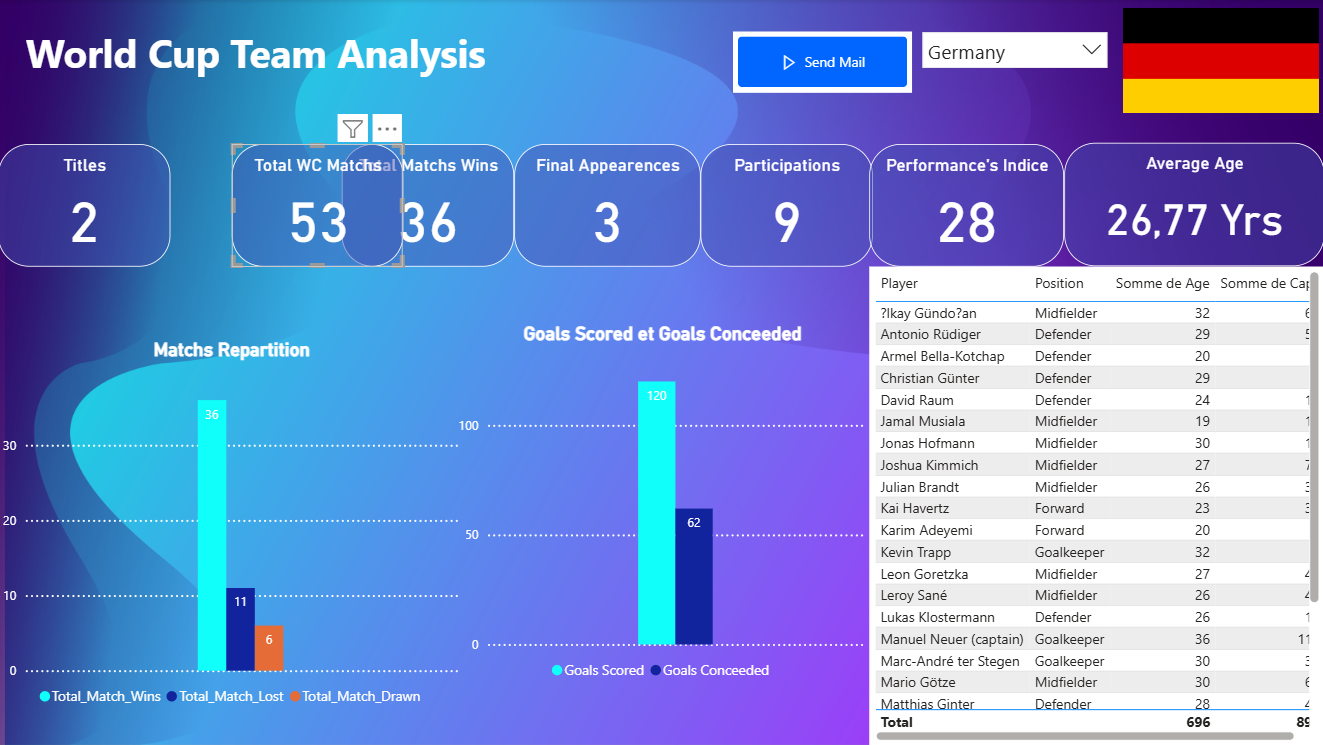

The dashboard page shown, as its layout file describes it:
{"tool":"powerbi","page":{"name":"WC_Team_Analysis","canvas":[1280,720],"ordinal":2},"visuals":[{"type":"slicer","fields":{"Values":["dim_fifa_ranking.team"]},"box":[882.3,22,199,52.1],"z":0},{"type":"card","title":"Total WC Matchs","fields":{"Values":["fact_WC_matches.Total Matches by Team"]},"box":[225.6,139.9,165.3,118.2],"z":1000},{"type":"simpleImageEBC4593F96F1425FB3D84C5BF02B5075","fields":{"imageURL":["dim_fifa_ranking.Flag"]},"box":[1081.3,4.1,199,111.1],"z":2000},{"type":"card","title":"Total Matchs Wins","fields":{"Values":["fact_WC_matches.Total_Match_Wins"]},"box":[332.1,140,166,118],"z":3000},{"type":"card","title":"Final Appearences","fields":{"Values":["fact_WC_matches.Final Appearances"]},"box":[498.1,140,179.8,118],"z":4000},{"type":"card","title":"Participations","fields":{"Values":["fact_WC_matches.Participations"]},"box":[677.9,140,166,118],"z":5000},{"type":"card","title":"Titles","fields":{"Values":["fact_WC_matches.World Cup Titles"]},"box":[0,140,166,118],"z":6000},{"type":"card","title":"Performance''s Indice","fields":{"Values":["fact_WC_matches.Indice_Performance"]},"box":[841.2,140,188,118],"z":7000},{"type":"clusteredColumnChart","title":"Matchs Repartition","fields":{"Y":["fact_WC_matches.Total_Match_Wins","fact_WC_matches.Total_Match_Lost","fact_WC_matches.Total_Match_Drawn"]},"box":[0,328,451.5,363.6],"z":8000},{"type":"clusteredColumnChart","fields":{"Y":["fact_WC_matches.Goals Scored","fact_WC_matches.Goals Conceeded"]},"box":[439.1,312.9,404.8,354],"z":9000},{"type":"textbox","box":[22,22,521.4,68.6],"z":10000},{"type":"tableEx","fields":{"Values":["fact_2022_world_cup_squads.Player","fact_2022_world_cup_squads.Position","Sum(fact_2022_world_cup_squads.Age)","Sum(fact_2022_world_cup_squads.Caps)"]},"box":[841.2,258,439.1,462.4],"z":11000},{"type":"card","title":"Average Age","fields":{"Values":["fact_2022_world_cup_squads.Average age"]},"box":[1029.2,138.6,251.1,119.4],"z":12000},{"type":"FlowVisual_C29F1DCC_81F5_4973_94AD_0517D44CC06A","fields":{"table":["dim_fifa_ranking.team","fact_WC_matches.Total_Match_Wins","fact_WC_matches.Total_Match_Drawn","fact_WC_matches.Total_Match_Lost","fact_WC_matches.Goals Scored","fact_WC_matches.Goals Conceeded","Sum(dim_fifa_ranking.rank)","dim_fifa_ranking.points"]},"box":[709.4,31.6,172.9,59],"z":13000}]}

Visuals, with their boxes in screenshot pixels (x1, y1, x2, y2), scaled from the page's 1280x720 canvas onto the 1323x745 screenshot:
slicer - dim_fifa_ranking.team: (x1=912, y1=23, x2=1118, y2=77)
"Total WC Matchs" card: (x1=233, y1=145, x2=404, y2=267)
simpleImageEBC4593F96F1425FB3D84C5BF02B5075 - dim_fifa_ranking.Flag: (x1=1118, y1=4, x2=1322, y2=119)
"Total Matchs Wins" card: (x1=343, y1=145, x2=515, y2=267)
"Final Appearences" card: (x1=515, y1=145, x2=701, y2=267)
"Participations" card: (x1=701, y1=145, x2=872, y2=267)
"Titles" card: (x1=0, y1=145, x2=172, y2=267)
"Performance''s Indice" card: (x1=869, y1=145, x2=1064, y2=267)
"Matchs Repartition" clusteredColumnChart: (x1=0, y1=339, x2=467, y2=716)
clusteredColumnChart - fact_WC_matches.Goals Scored x fact_WC_matches.Goals Conceeded: (x1=454, y1=324, x2=872, y2=690)
textbox: (x1=23, y1=23, x2=562, y2=94)
tableEx - fact_2022_world_cup_squads.Player x fact_2022_world_cup_squads.Position: (x1=869, y1=267, x2=1322, y2=744)
"Average Age" card: (x1=1064, y1=143, x2=1322, y2=267)
FlowVisual_C29F1DCC_81F5_4973_94AD_0517D44CC06A - dim_fifa_ranking.team x fact_WC_matches.Total_Match_Wins: (x1=733, y1=33, x2=912, y2=94)
